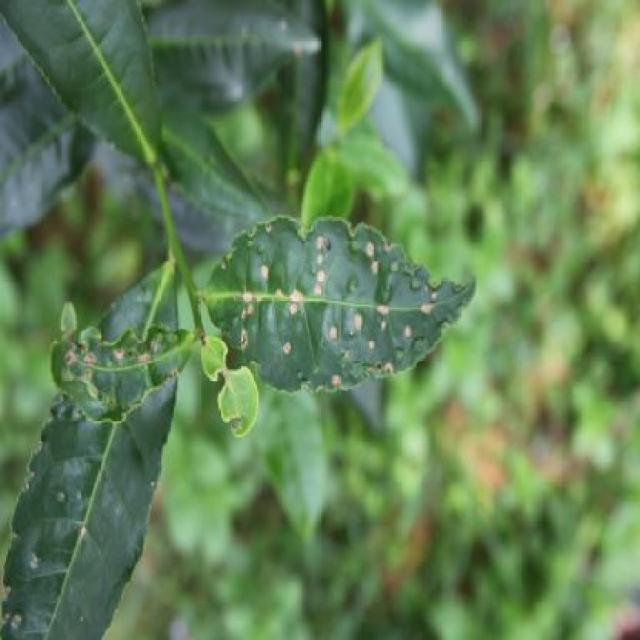Tea Mosquito bug infested leaf: (197, 203, 475, 395), (38, 285, 200, 420)
